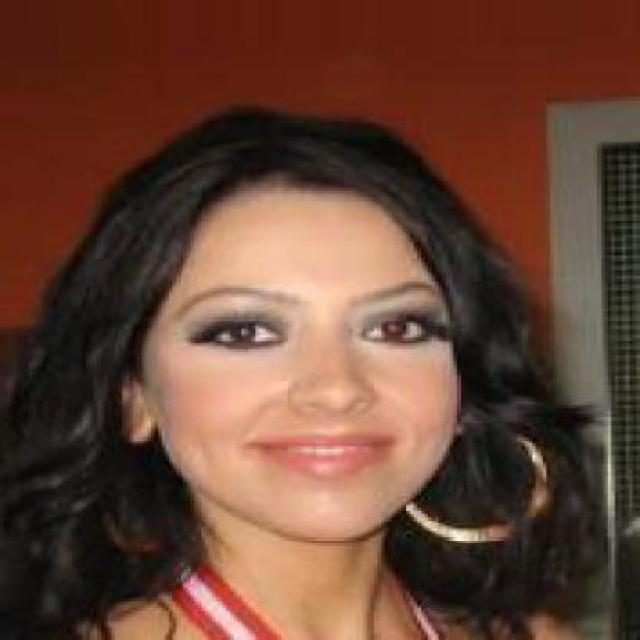closed-mouth: (242, 422, 400, 482)
